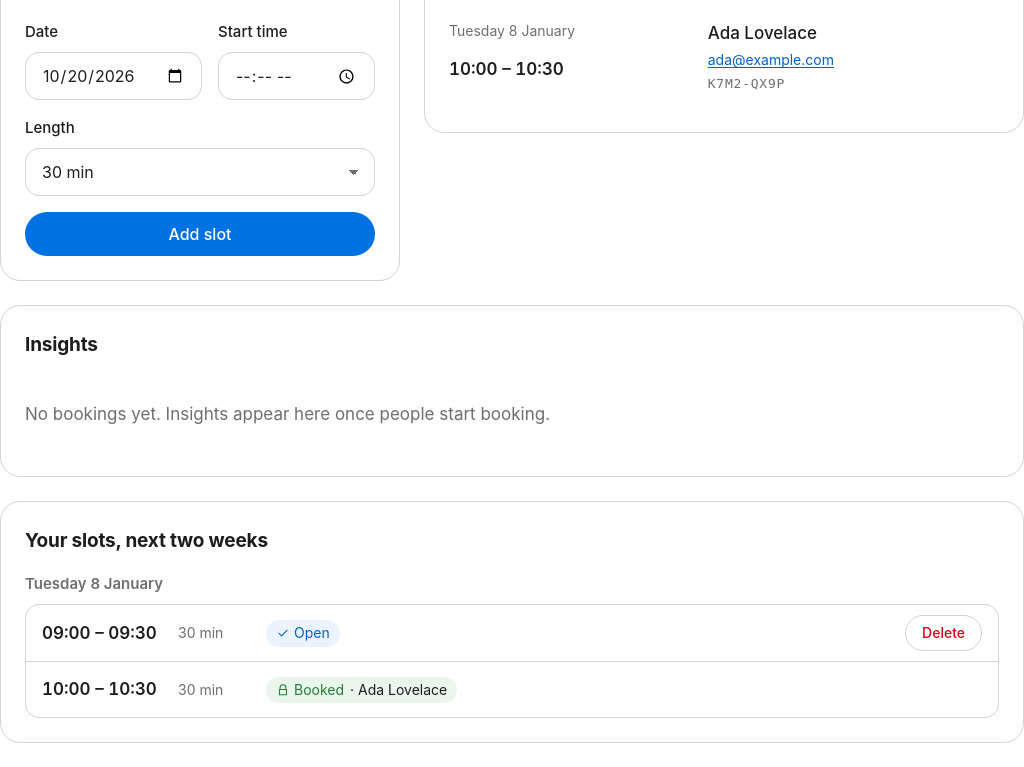
Dashboard › explains when a slot was booked just before deleting
(page scrolled)
Click the button "Delete ". click: x=944, y=634
box: [905,616,982,652]
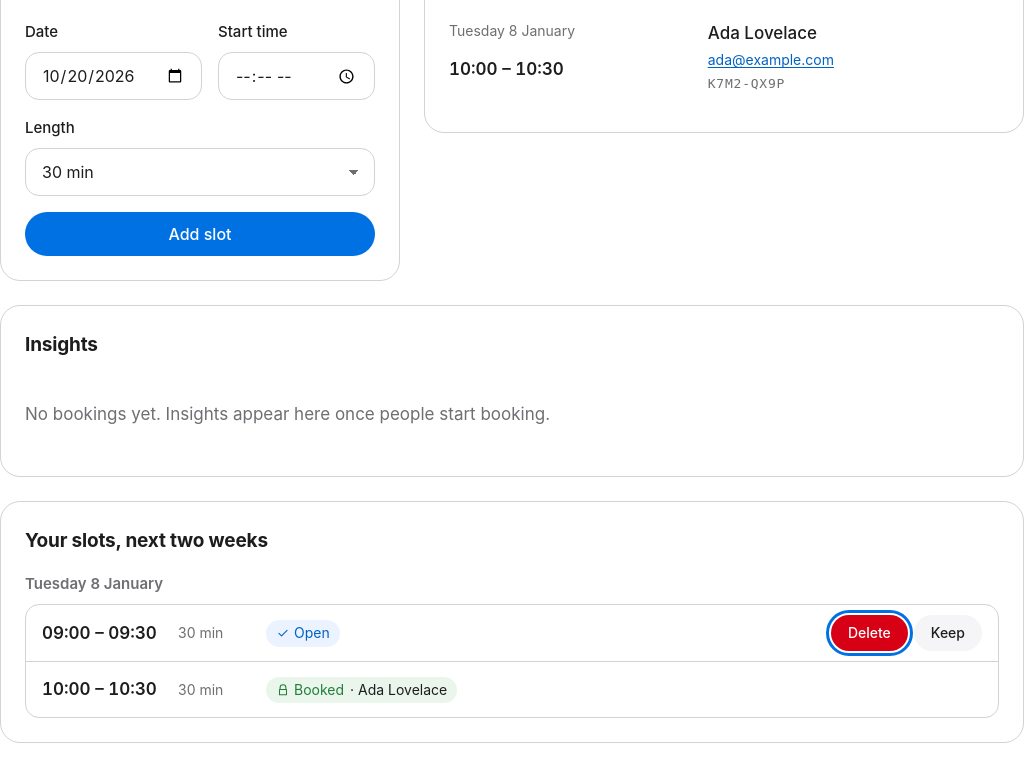
Click the button named "Delete 09:00 – 09:30 now". click: x=869, y=634
box: [831,616,908,652]
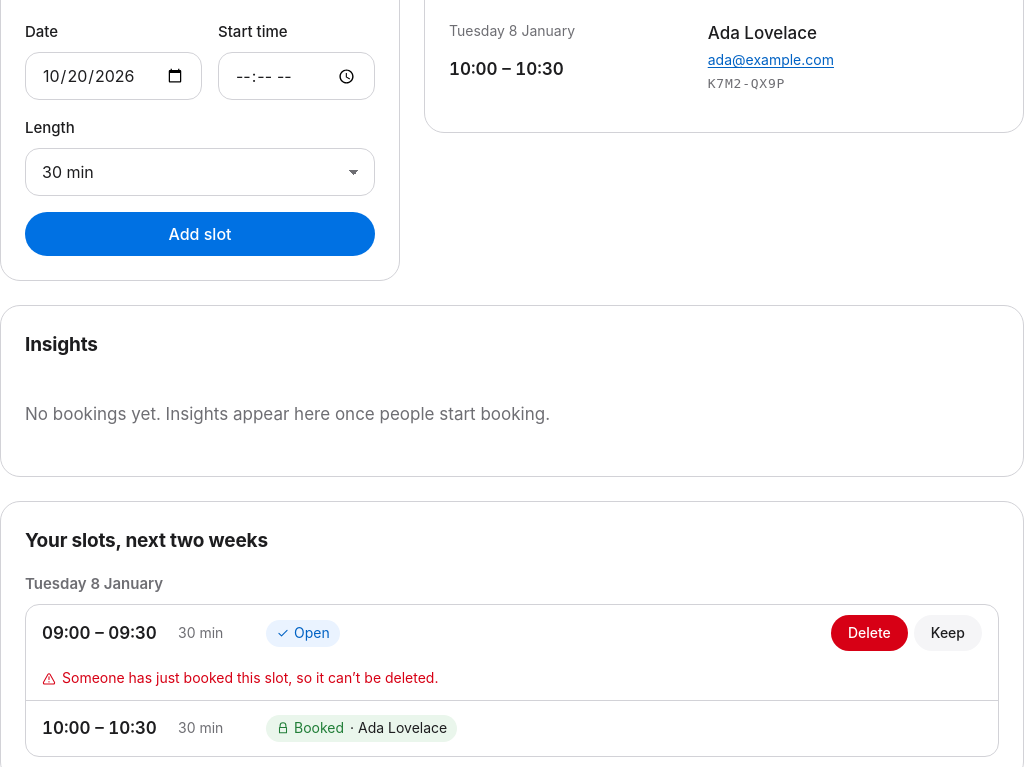
Check: the message shows "Someone has just booked this slot", box [62,670,438,686]
